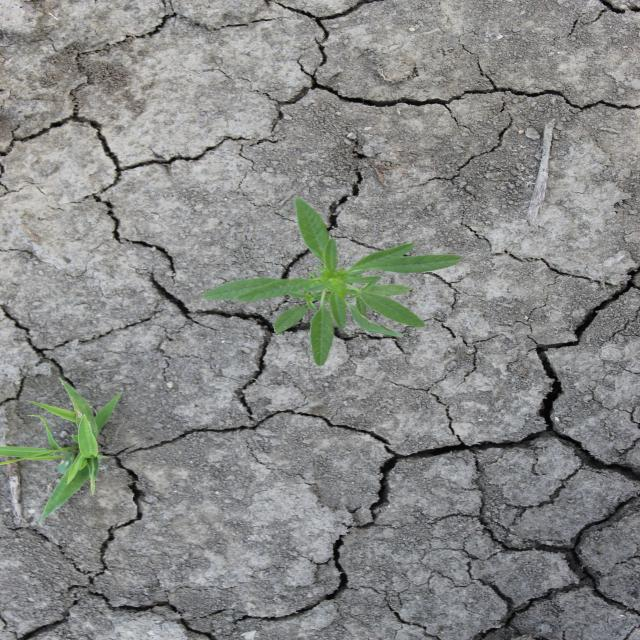Waterhemp: (202, 195, 465, 368)
